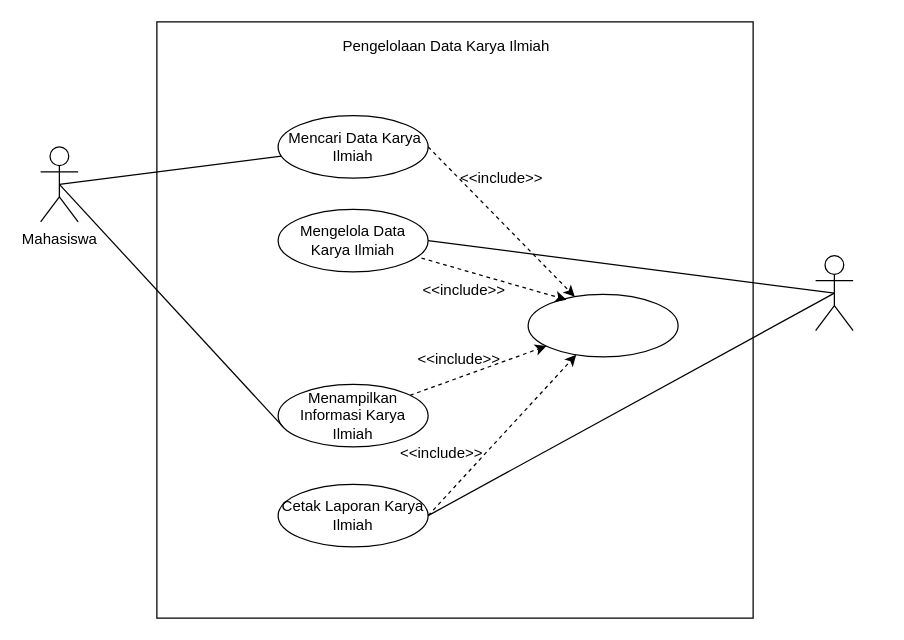
Some shapes in this 904 by 640 pixel diagram are drawn without their labels. The shapes that lost their labels are listed below. From the top down, each one's centre as x and y in pixels, then its label:
At (x=833, y=292): "Program Studi".
At (x=602, y=325): "Login".
